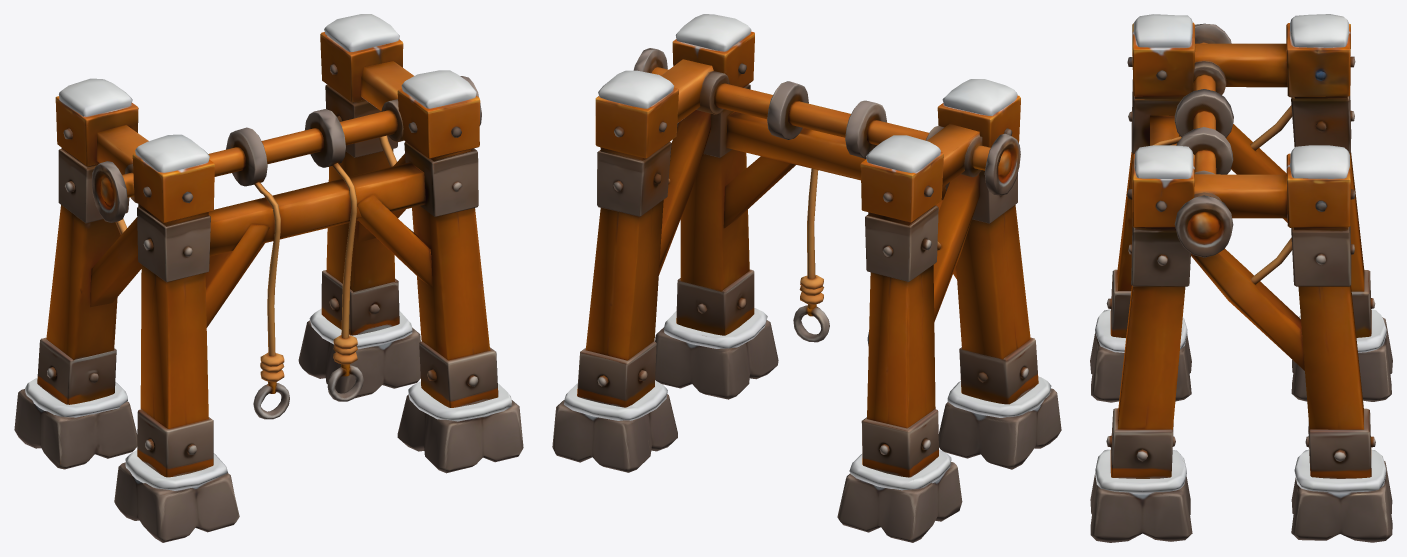
File: fishing_winch.glb
3 views of the same model, side by side, from view 1: azimuth 30°, elevation 25°; view 2: azimuth 150°, elevation 25°; view 3: azimuth 270°, elevation 25° (orthographic).
Visible parts, largest first — view 1: geometry_0; view 2: geometry_0; view 3: geometry_0.
Boxes of the visible parts, box(x1,y1,x2,y2) form: geometry_0: box(14, 14, 523, 542); geometry_0: box(552, 14, 1061, 542); geometry_0: box(1090, 14, 1392, 542).
Size of the model in its own units: 1 by 0.9638 by 0.7165.
Materials: 1 (1 with a texture image).
